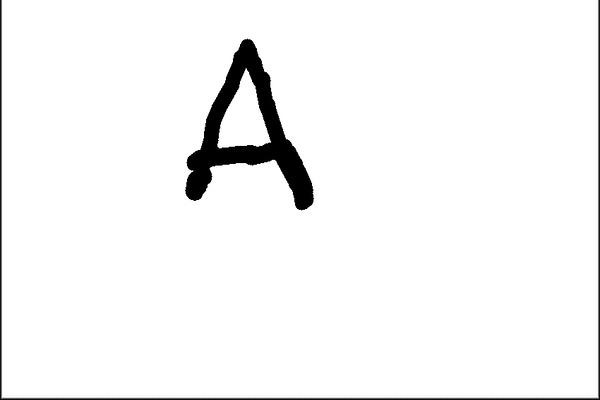A: (170, 26, 319, 214)
